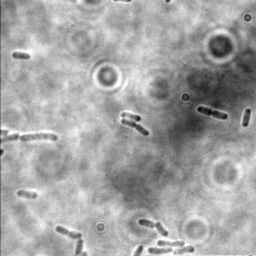Dividing: (119, 117, 151, 138), (195, 104, 229, 122), (53, 224, 82, 241), (155, 238, 186, 249)
Rod: (17, 130, 58, 144), (13, 188, 40, 201), (239, 106, 252, 130), (153, 220, 170, 238), (172, 244, 196, 255), (73, 236, 86, 255), (146, 246, 173, 255), (136, 218, 157, 229), (11, 51, 32, 62)
